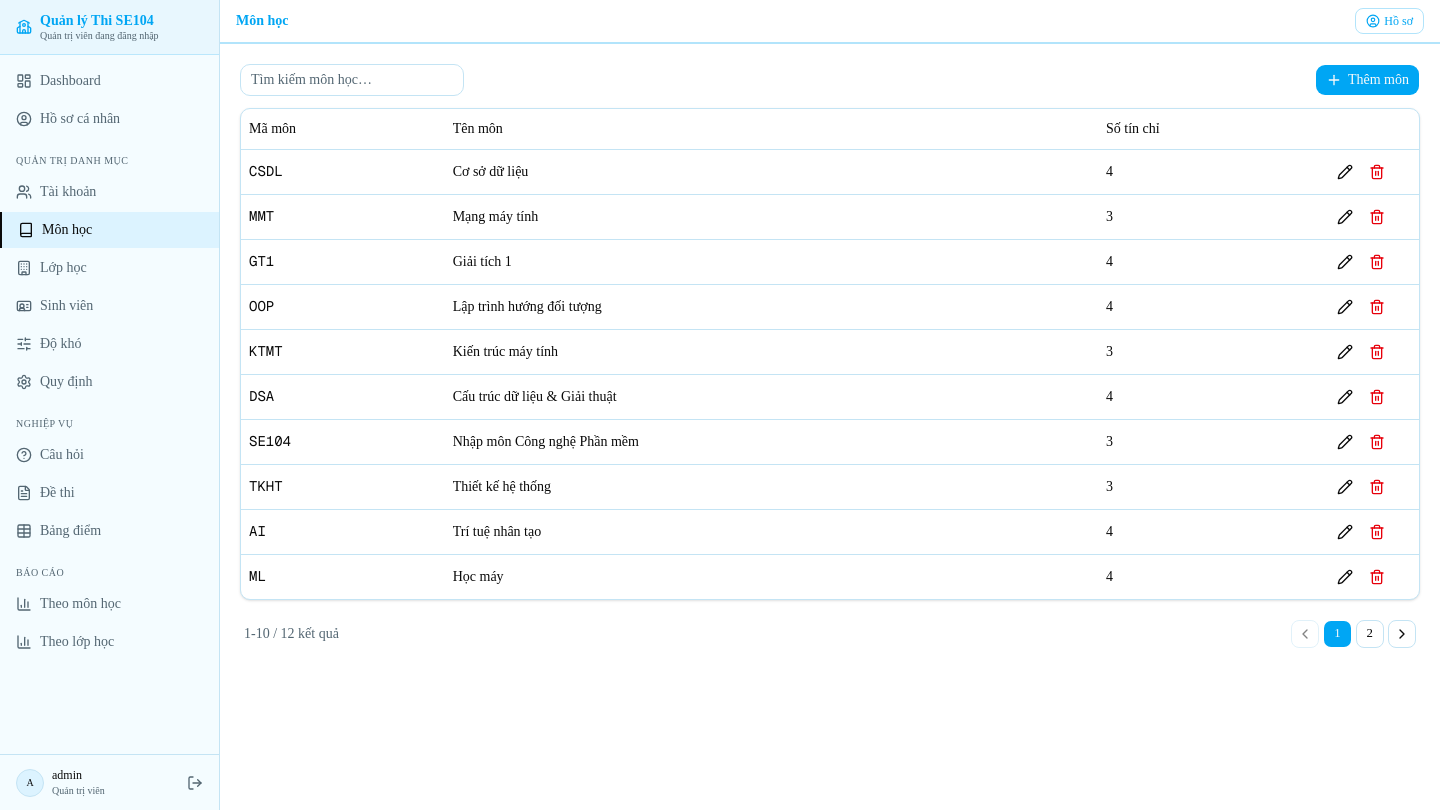
Test case: SubjectsPage › admin can delete a subject via confirm modal
The image size is (1440, 810).
Expected: the text "CSDL" is shown, [249, 162, 283, 180]
Click the button named "Xoá" in the row of "CSDL" at (1377, 172), box [1363, 158, 1391, 186]
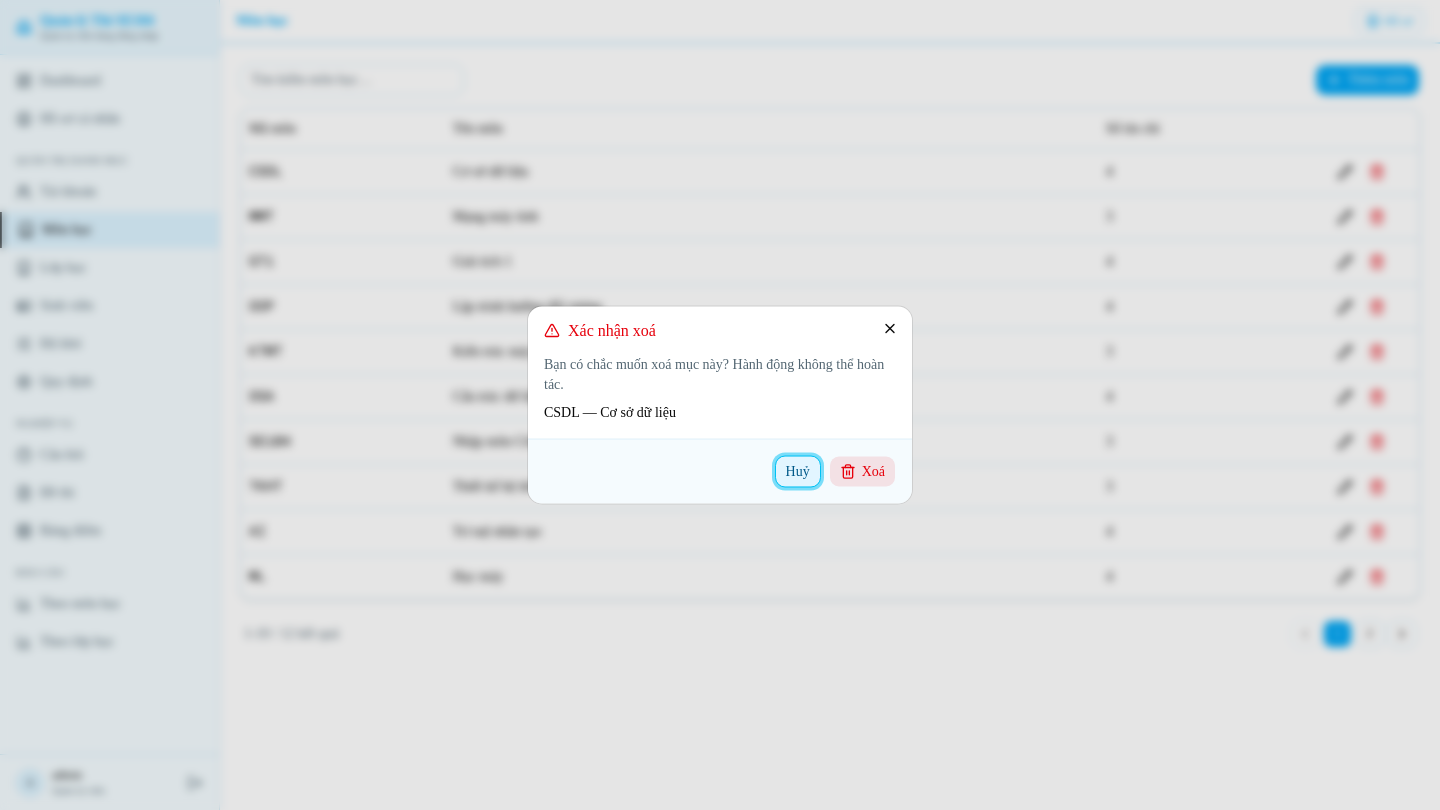
Expected: the heading "Xác nhận xoá" is shown, [544, 322, 656, 338]
Click the button "Xoá" at (862, 472), box [829, 456, 896, 488]
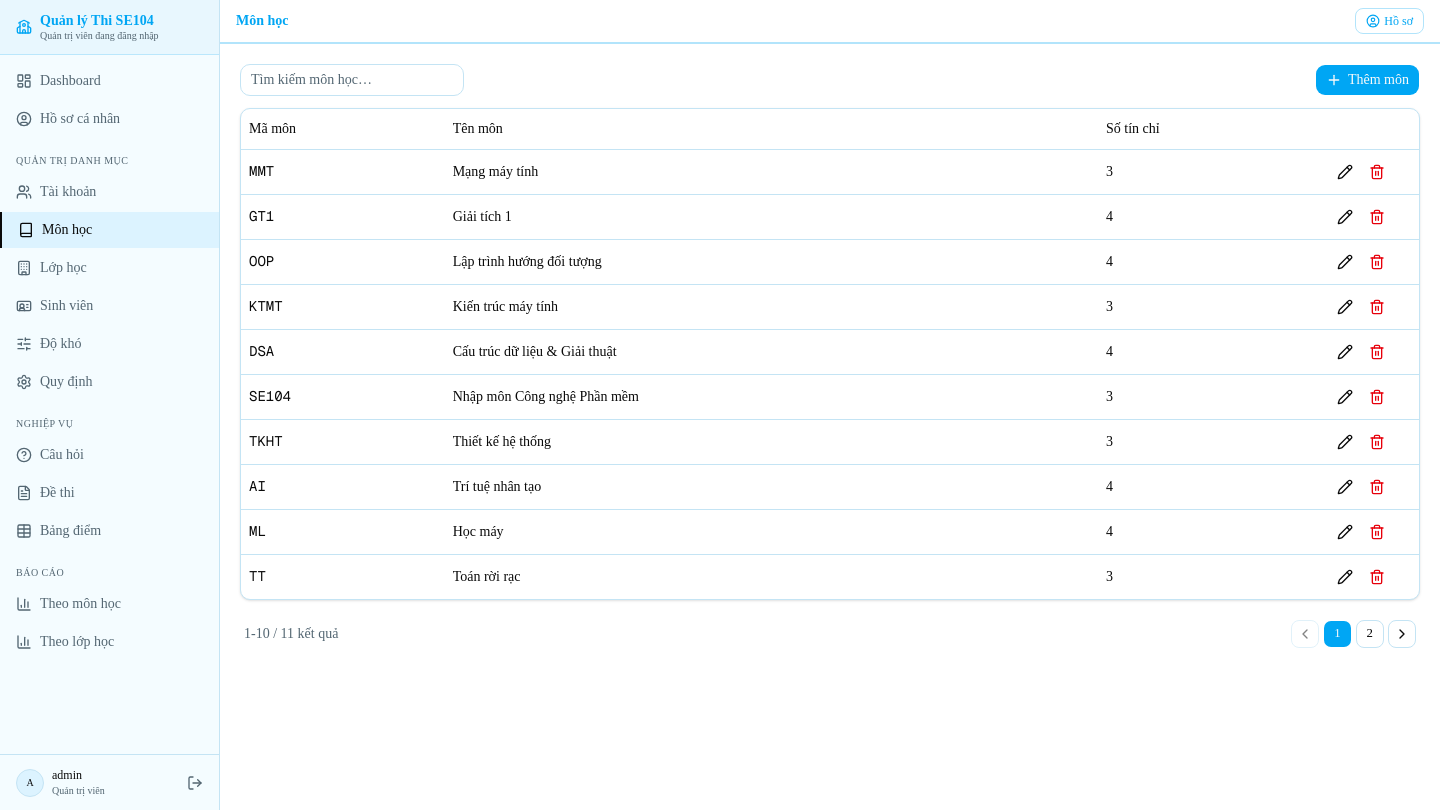
Expected: the dialog is gone
